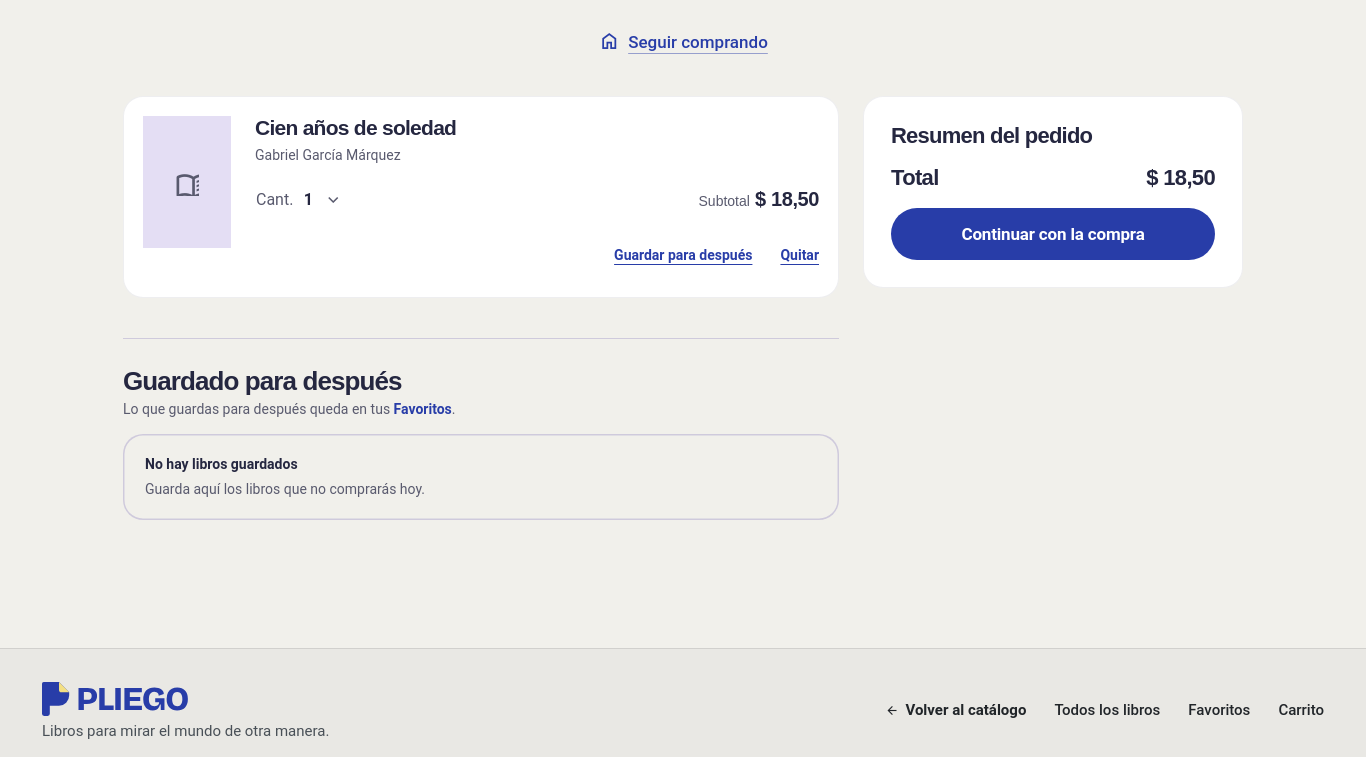
CartPage › keeps the item in the cart when it cannot be saved for later
What coordinates should you click on to do the following:
click the button with aria-label "Guardar Cien años de soledad para después"
I would click on:
 (683, 256)
Its box is [614,234,752,278].
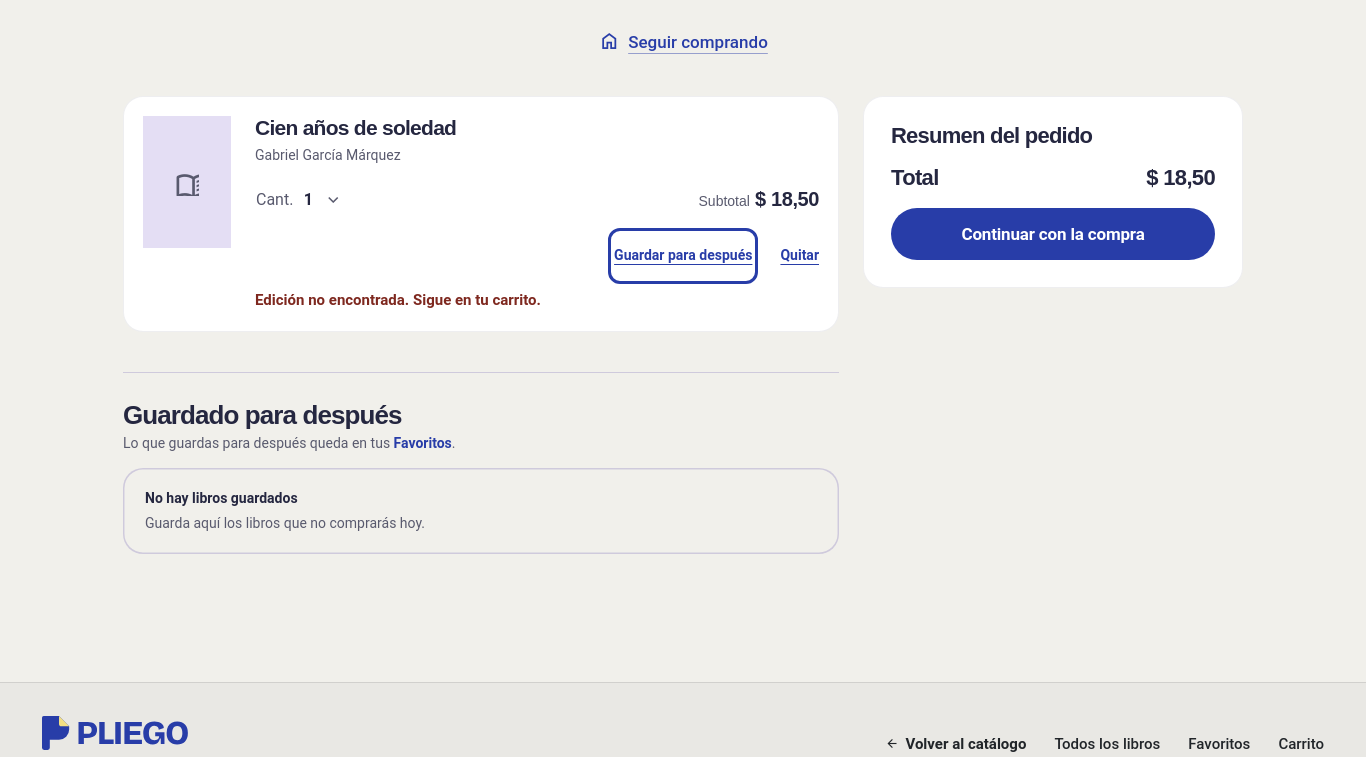
Result: the message shows "Sigue en tu carrito." at [255,291,541,309]
